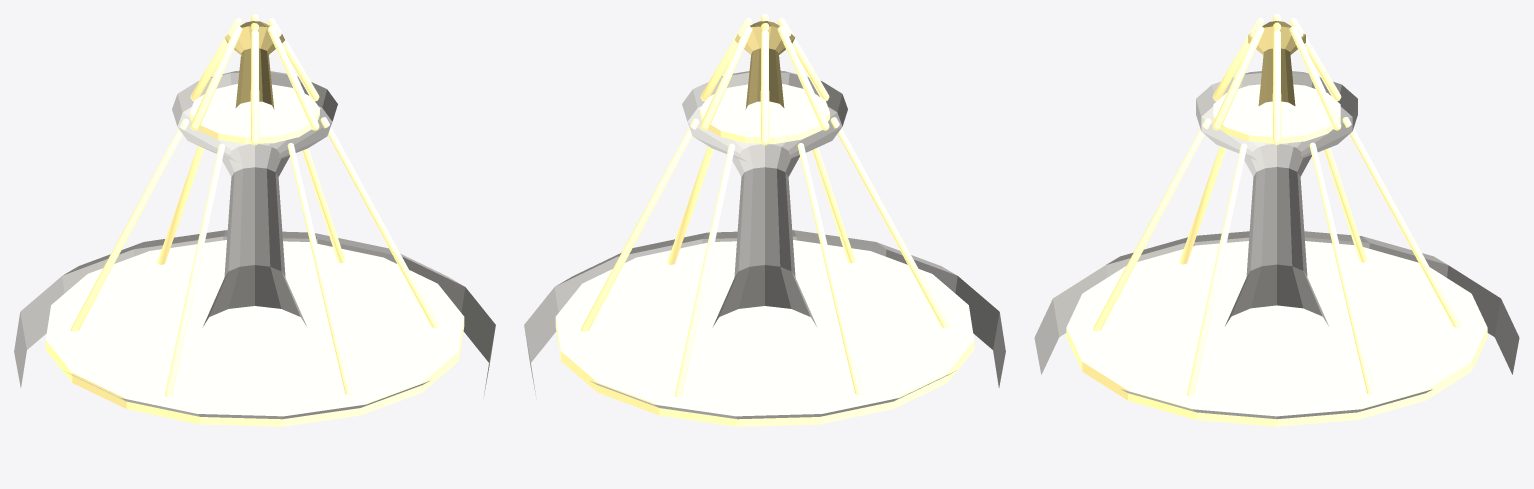
The model's file is mythic-underworld-and-olympus-ambrosia-fountain-31115a95__21387.glb.
3 views of the same model, side by side, from view 1: azimuth 30°, elevation 25°; view 2: azimuth 150°, elevation 25°; view 3: azimuth 270°, elevation 25° (orthographic).
Visible parts, largest first — view 1: ambrosia-fountain; view 2: ambrosia-fountain; view 3: ambrosia-fountain.
Boxes of the visible parts, bbox=[...] form: ambrosia-fountain: bbox=[14, 14, 495, 426]; ambrosia-fountain: bbox=[524, 14, 1005, 426]; ambrosia-fountain: bbox=[1034, 14, 1519, 426].
Size of the model in its own units: 3.5 by 2.81 by 3.5.
